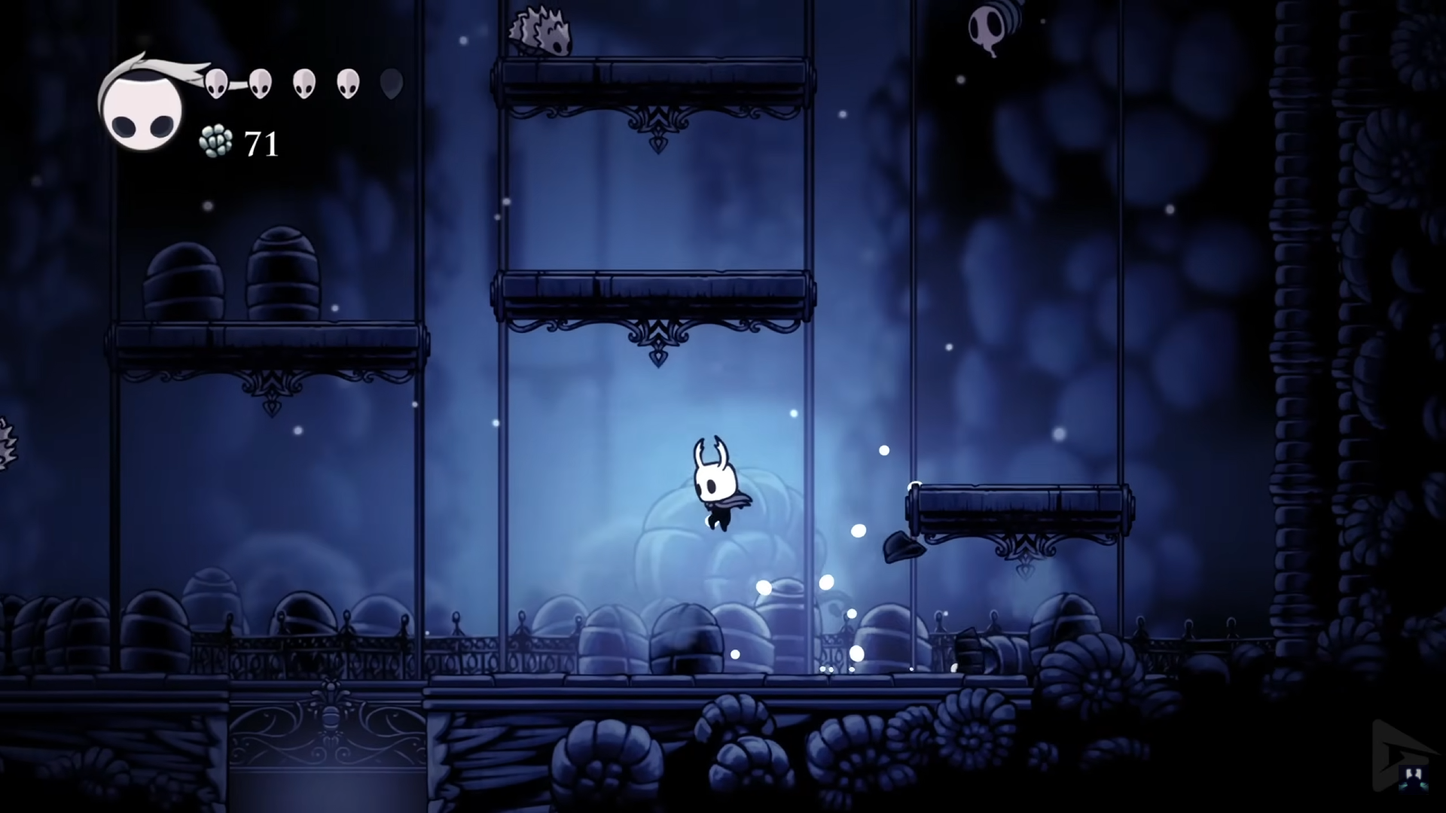HK: (688, 432, 750, 535)
